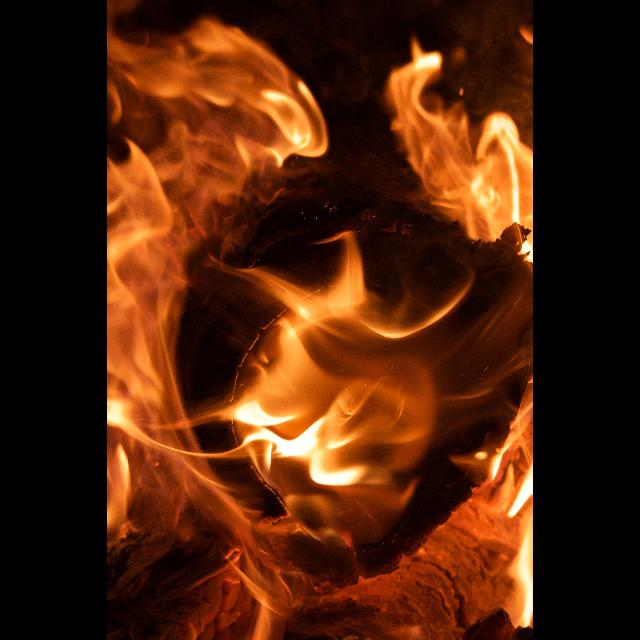fire: (107, 20, 534, 640)
